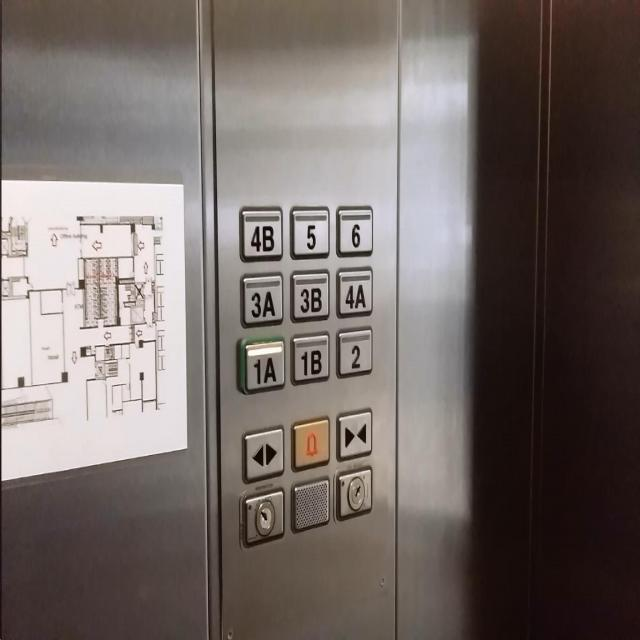1A: (237, 334, 285, 398)
1B: (288, 328, 330, 388)
2: (334, 324, 373, 380)
3A: (239, 269, 284, 330)
3B: (288, 265, 331, 325)
4A: (334, 264, 374, 318)
4B: (237, 203, 284, 264)
5: (287, 202, 331, 262)
6: (334, 202, 375, 258)
alarm: (290, 410, 331, 473)
bt_keyhole: (239, 482, 286, 553), (332, 462, 374, 524)
close: (334, 403, 374, 462)
open: (240, 421, 286, 487)
speaker: (290, 472, 331, 535)
